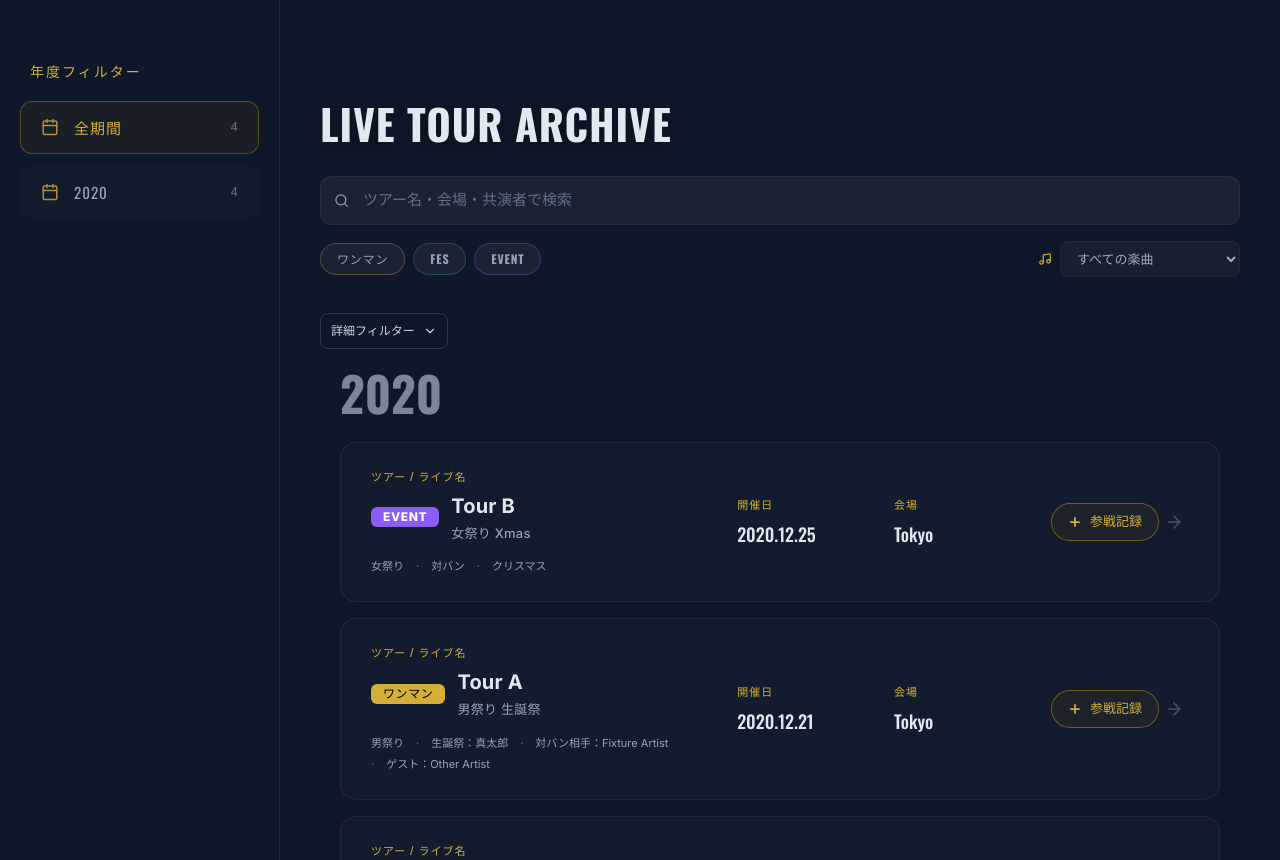
Scenario: LiveList 属性フィルター › 属性選択で年別表示から検索結果に切り替え、階層内OR・階層間ANDで絞る
The width and height of the screenshot is (1280, 860).
What coordinates should you click on to do the following:
click the button "詳細フィルター"
I would click on:
 (384, 331)
Its box is x1=320 y1=313 x2=448 y2=349.
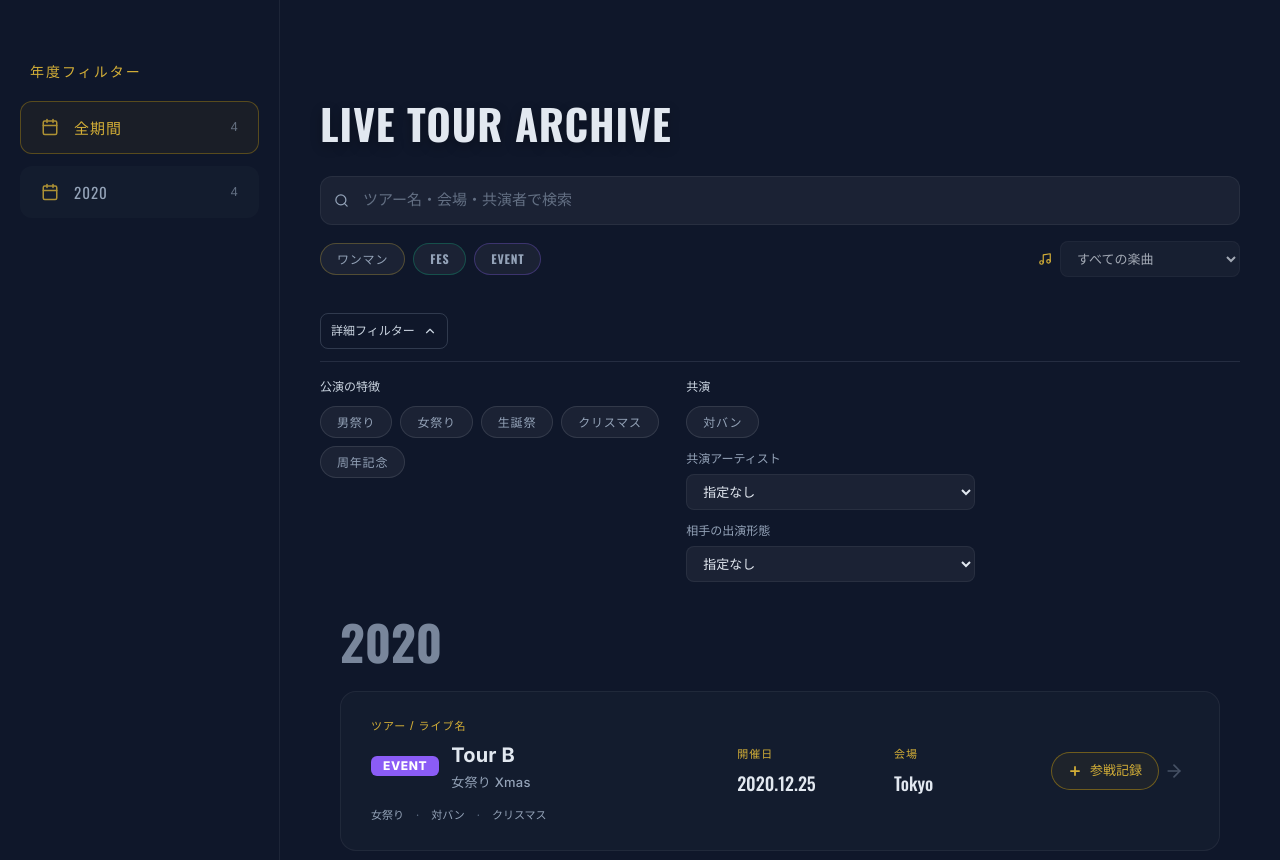
What coordinates should you click on to do the following:
click the button "男祭り"
I would click on:
 (356, 422)
Its box is x1=320 y1=406 x2=392 y2=438.
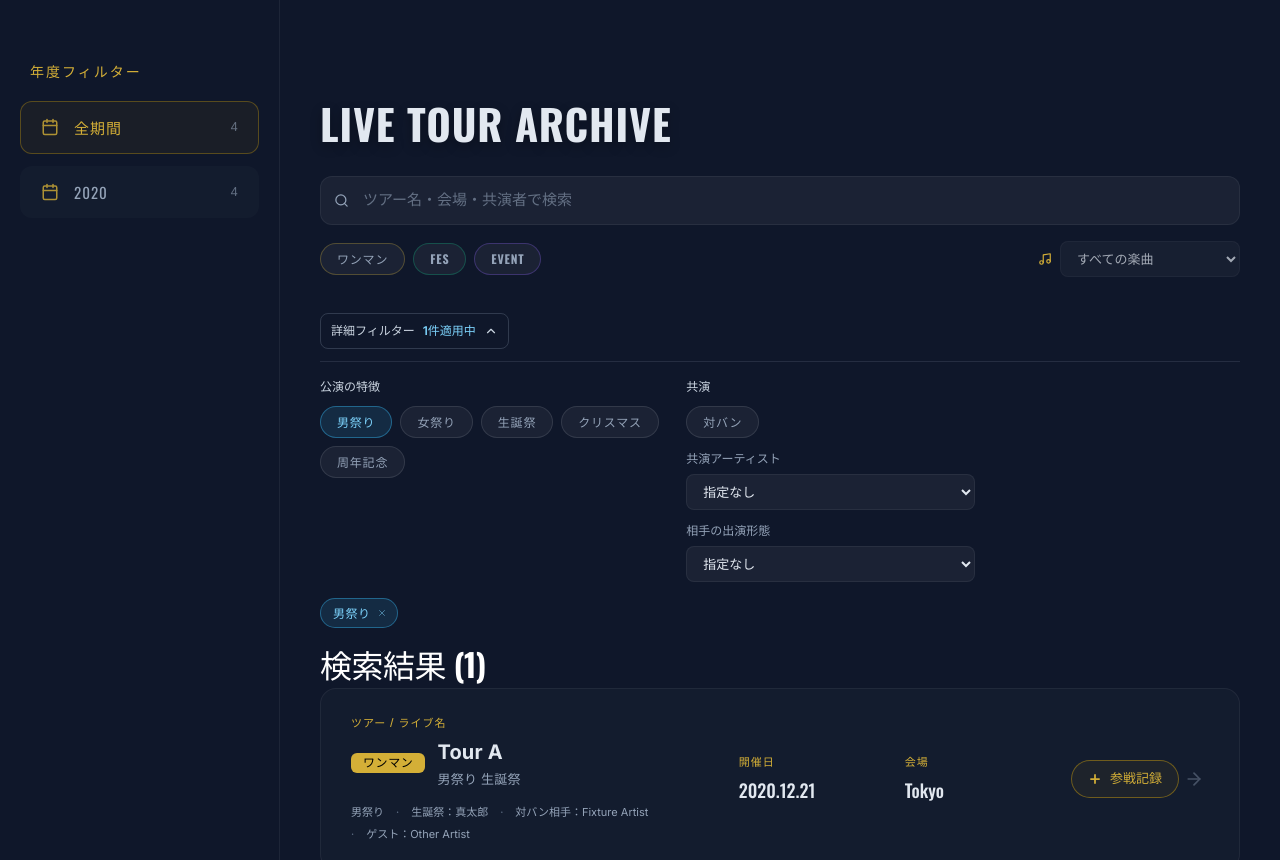
Now the heading "検索結果 (1)" is shown, box x1=320 y1=640 x2=486 y2=687
What coordinates should you click on to do the following:
click the button "女祭り"
I would click on:
 (437, 422)
Its box is x1=400 y1=406 x2=473 y2=438.
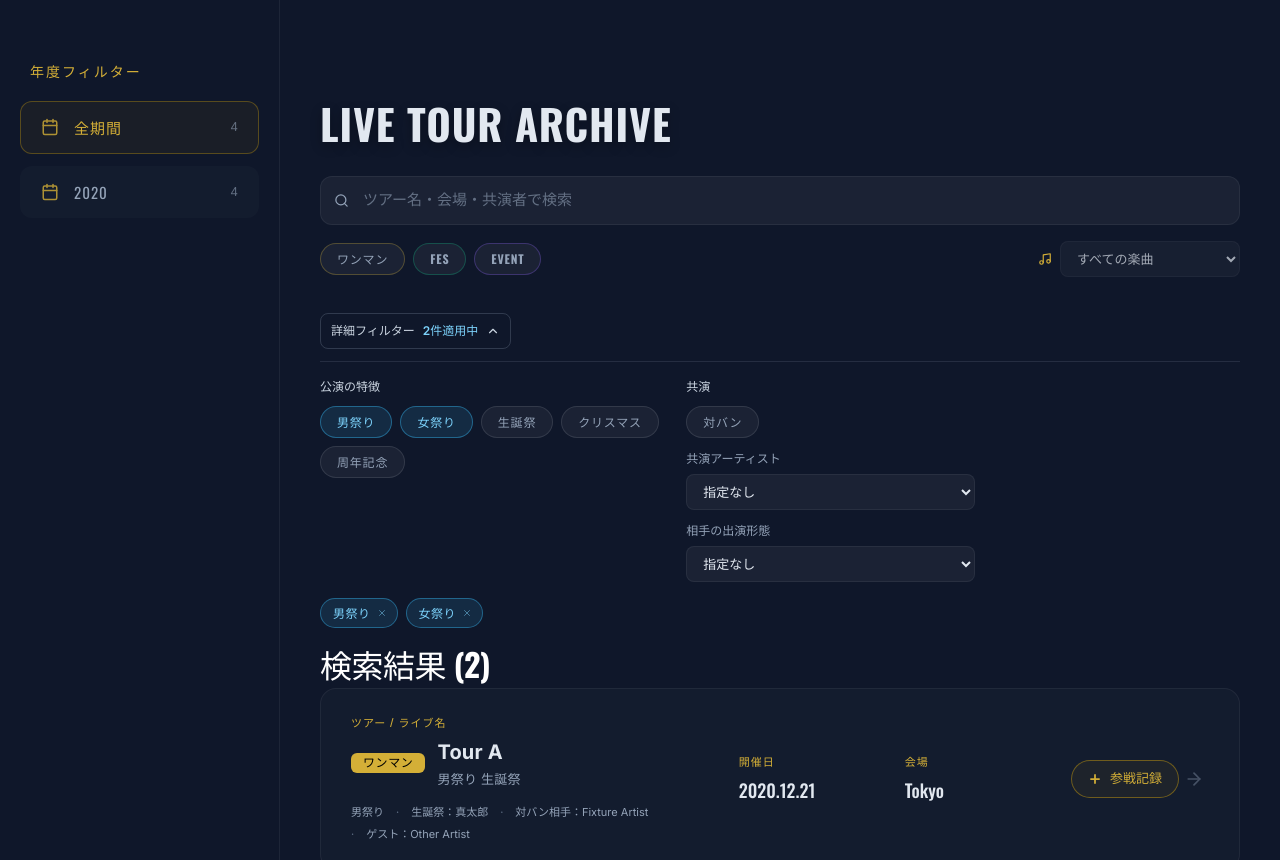
Now the heading "検索結果 (2)" is shown, box x1=320 y1=640 x2=490 y2=687
What coordinates should you click on to do the following:
click the button "生誕祭"
I would click on:
 (517, 422)
Its box is x1=481 y1=406 x2=553 y2=438.
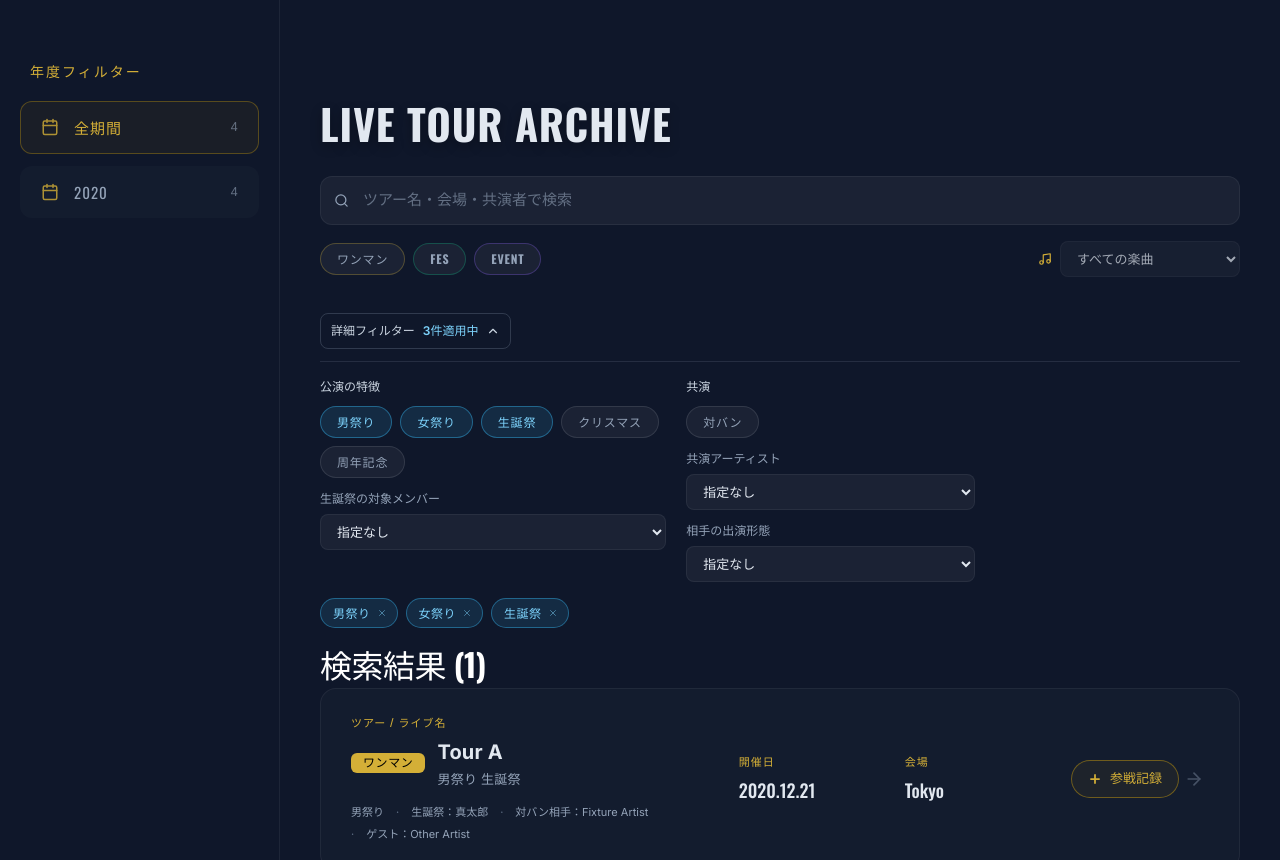
Now the heading "検索結果 (1)" is shown, box x1=320 y1=640 x2=486 y2=687
What coordinates should you click on to do the following:
click the button named "生誕祭フィルターを解除"
I would click on:
 (552, 613)
Its box is x1=548 y1=608 x2=558 y2=618.
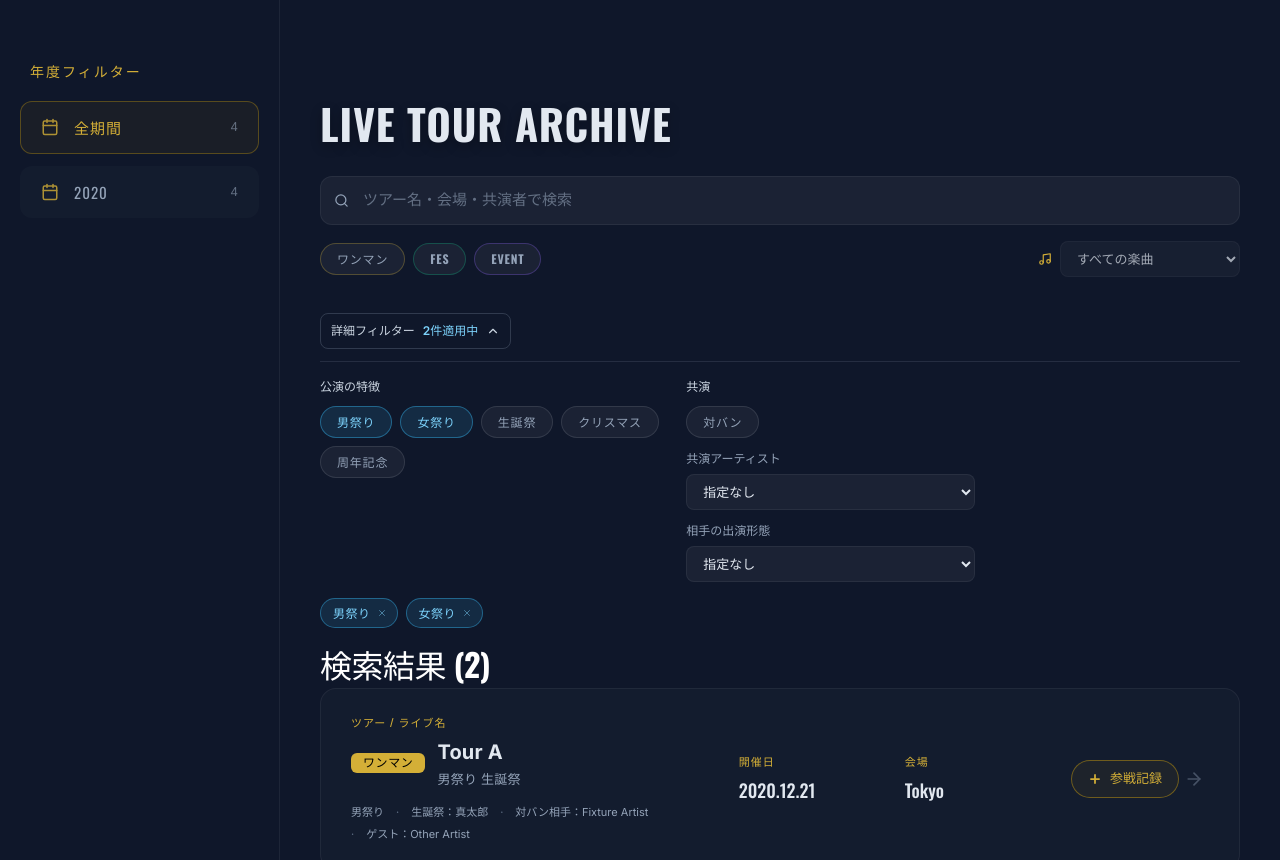
Now the heading "検索結果 (2)" is shown, box x1=320 y1=640 x2=490 y2=687
